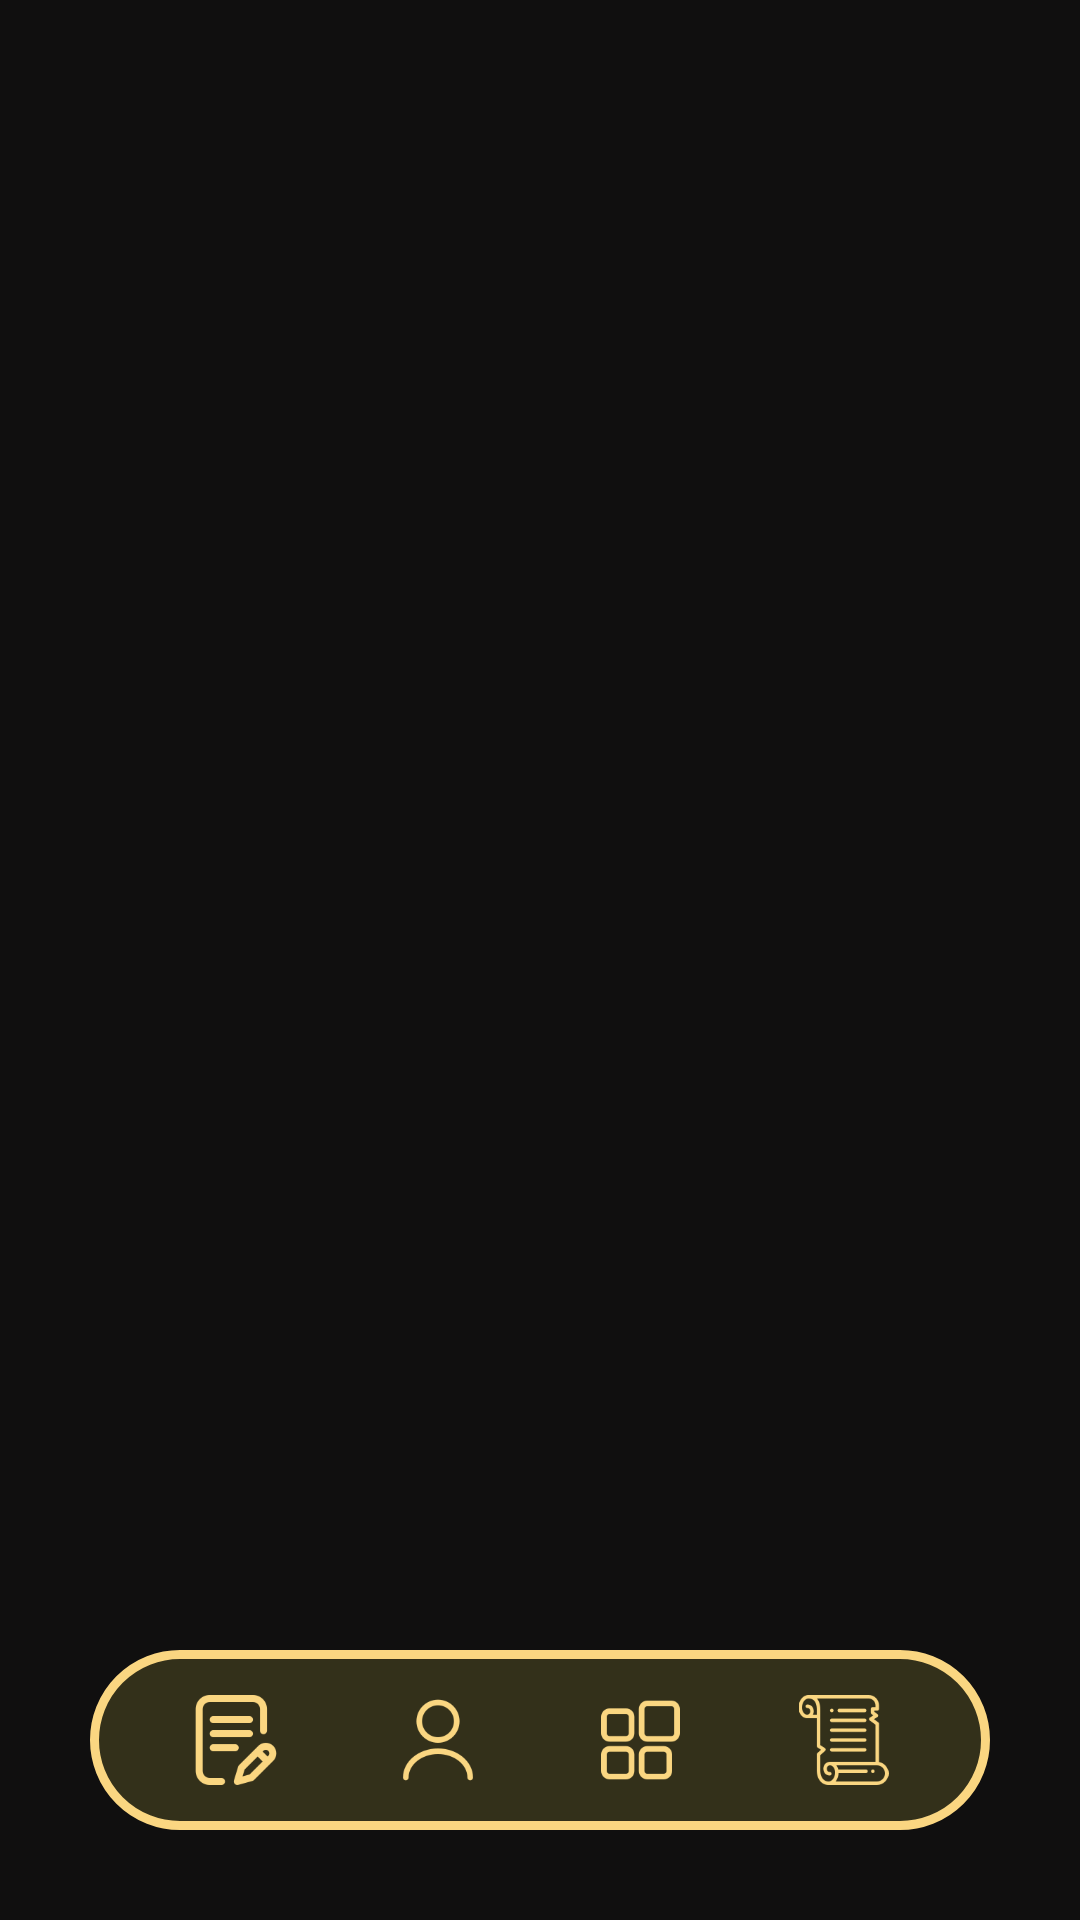

Icons on this 1080 x 1920 Android screen, each with the point to tap as (x,y):
Navigation Biography Icon: (844,1740)
Navigation Main Icon: (640,1740)
notes: (236,1740)
profile: (438,1740)
